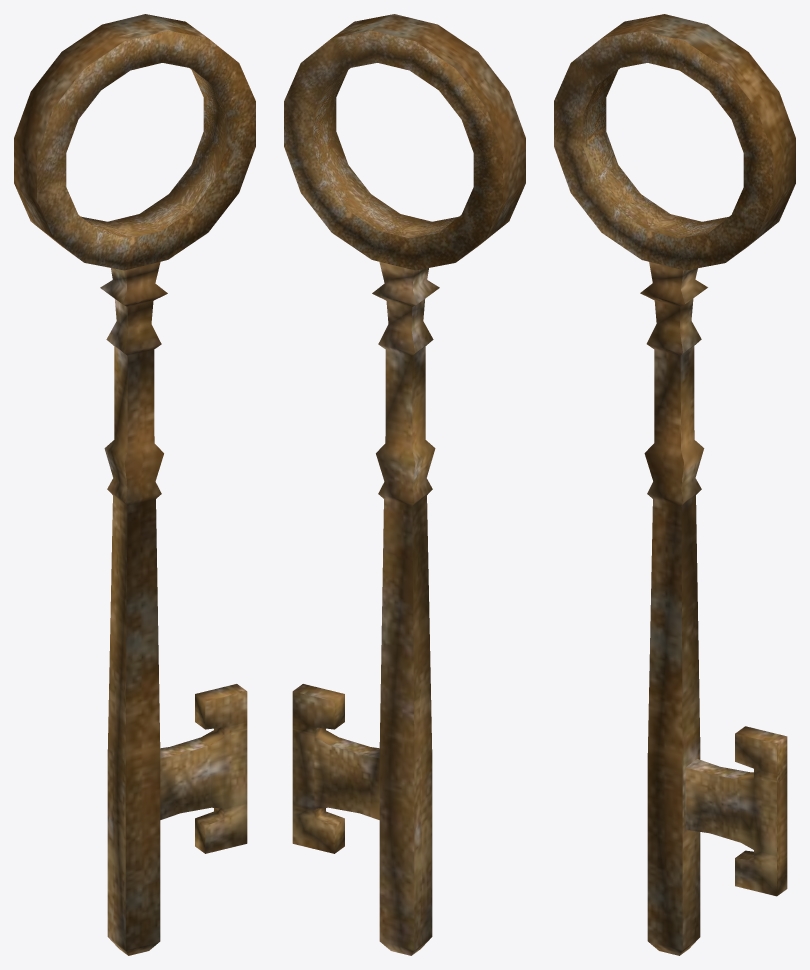
The model's file is key_0.fbx.
The picture shows the model from 3 angles, left to right: view 1: azimuth 30°, elevation 25°; view 2: azimuth 150°, elevation 25°; view 3: azimuth 330°, elevation 25°; orthographic projection.
Parts seen in each view (by area): view 1: Key_0; view 2: Key_0; view 3: Key_0.
Part boxes in pixels (x1=…): Key_0: x1=14, y1=14, x2=255, y2=955; Key_0: x1=284, y1=14, x2=525, y2=955; Key_0: x1=554, y1=14, x2=795, y2=955.
Size of the model in its own units: 9.47 by 38.09 by 1.72.
Materials: 1 (1 with a texture image).
